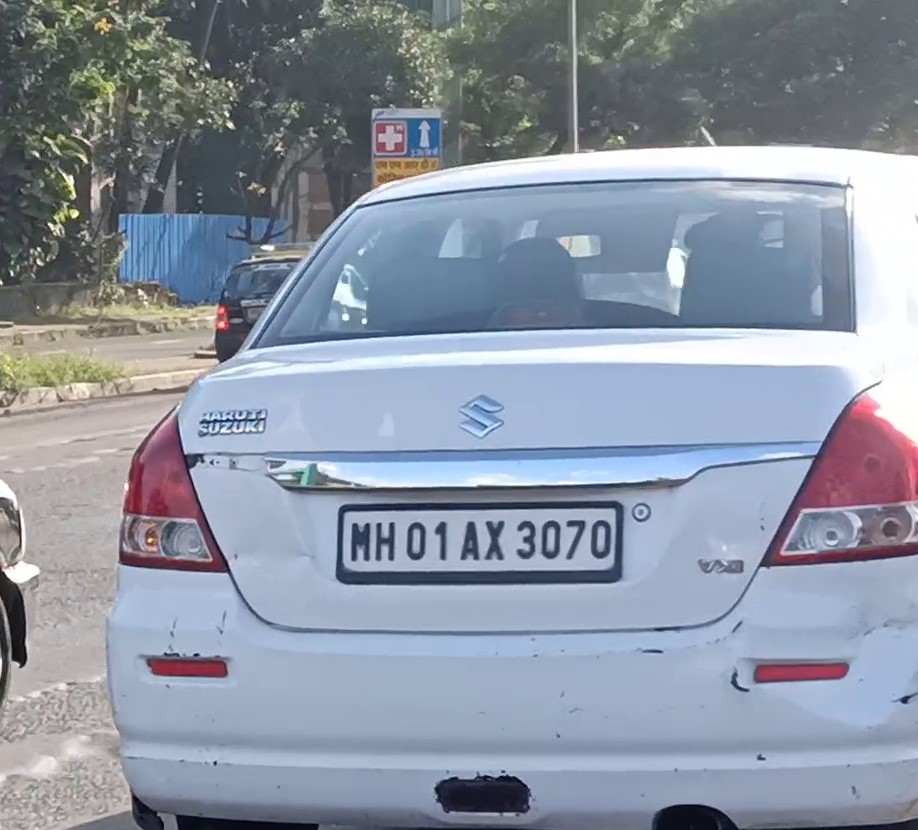MH01AX3070: (342, 510, 617, 573)
